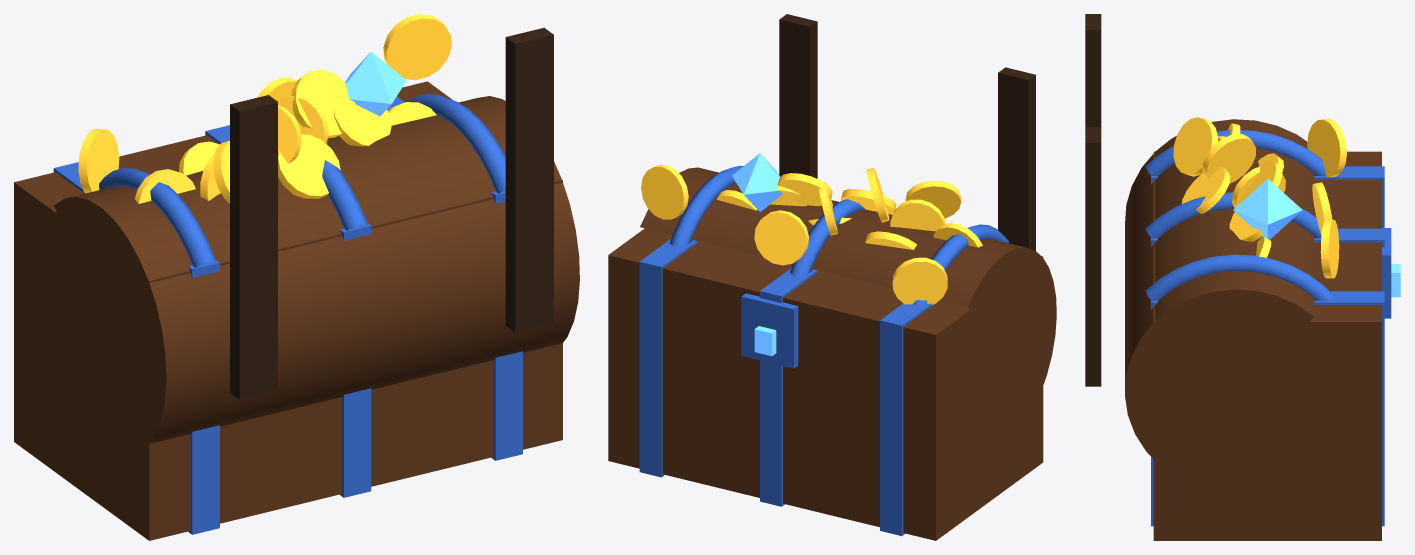
File: back_eqtz1.glb
3 views of the same model, side by side, from view 1: azimuth 30°, elevation 25°; view 2: azimuth 150°, elevation 25°; view 3: azimuth 270°, elevation 25° (orthographic). The views are drawn at different scales.
Bounding box in the file's own units: 1.5 × 1.56 × 1.17.
